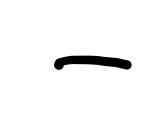minus: (53, 54, 132, 70)
